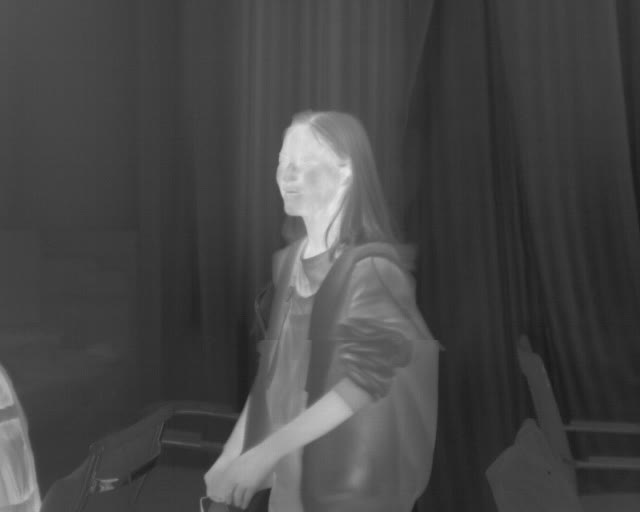face: (276, 108, 370, 219)
